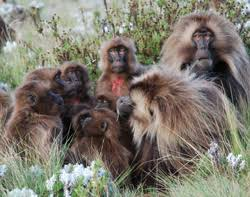Gelada: (125, 80, 235, 166), (171, 17, 241, 87), (16, 83, 60, 166), (79, 112, 127, 175), (99, 40, 139, 95), (59, 65, 91, 113)
